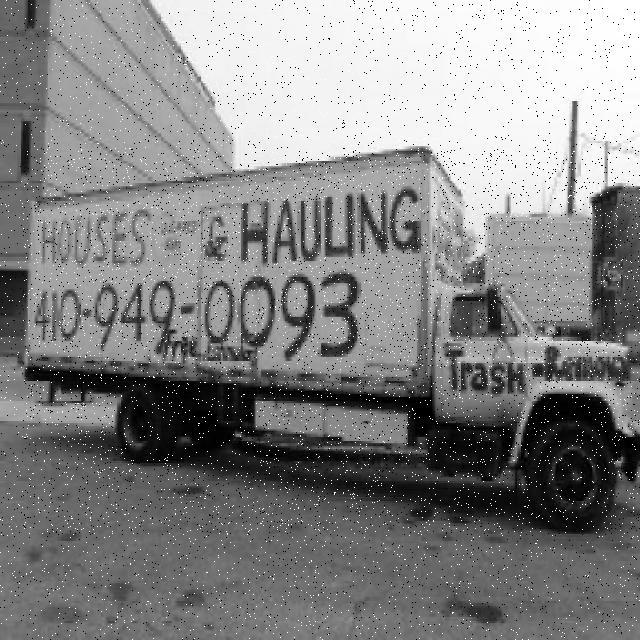Box Truck: (23, 148, 640, 534)
